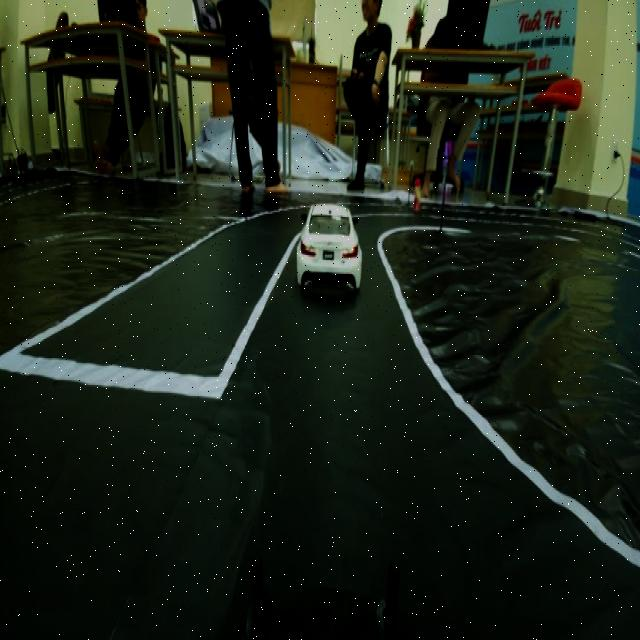car: (287, 192, 373, 298)
